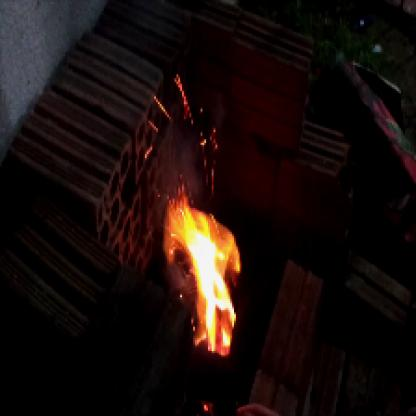Fire: (162, 175, 245, 360)
